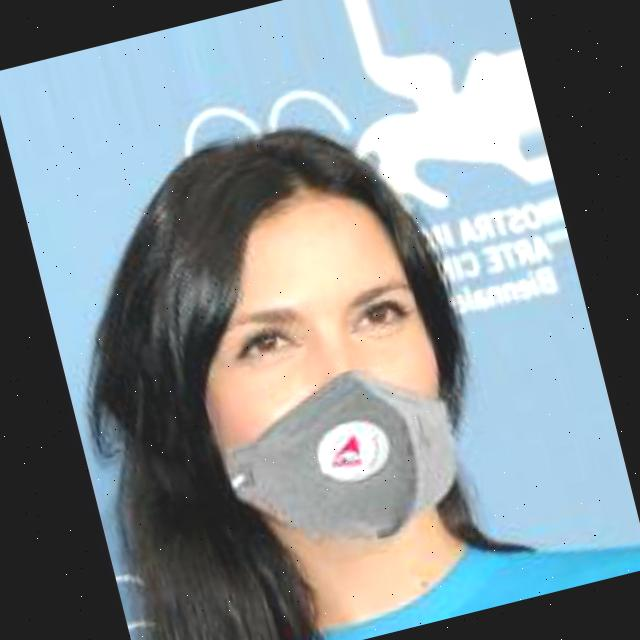suspicion: (77, 111, 524, 580)
